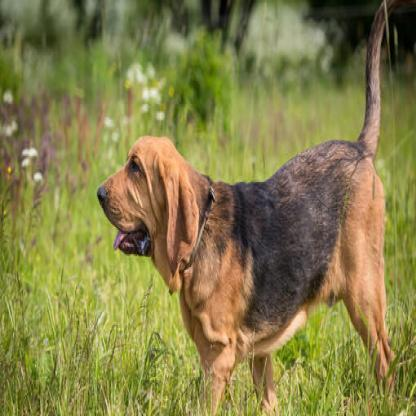Bloodhound: (95, 5, 401, 394)
